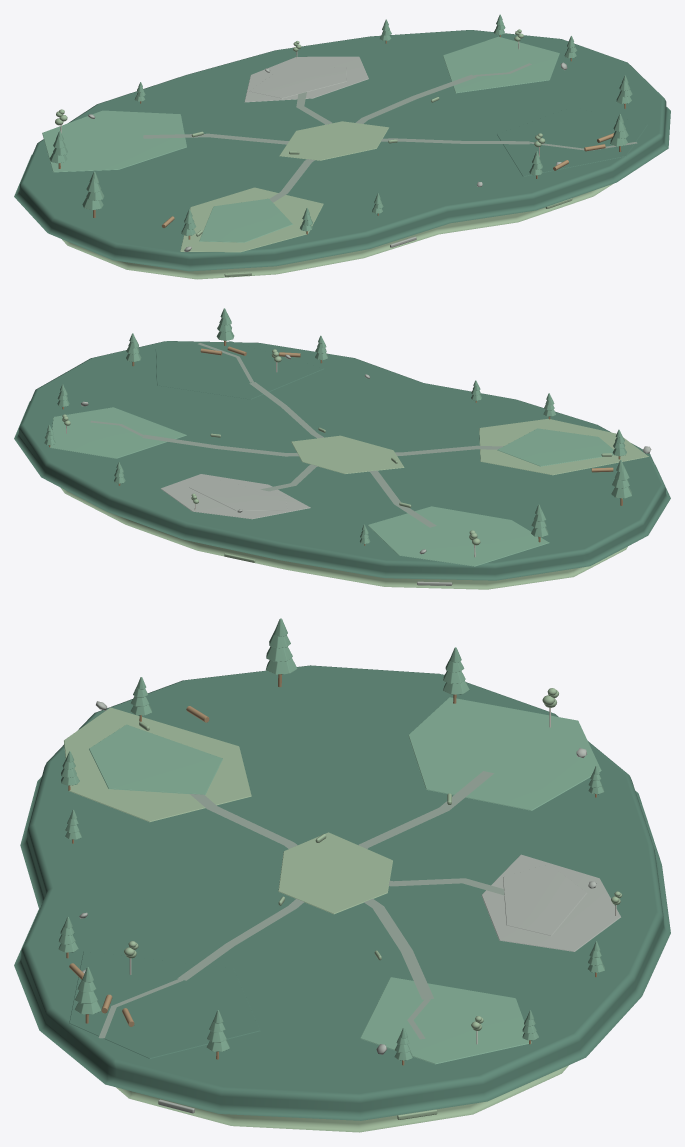
Rendered from career-world-environment.glb.
3 renders of one model, top to bottom at view 1: azimuth 30°, elevation 25°; view 2: azimuth 150°, elevation 25°; view 3: azimuth 270°, elevation 25°, orthographic. The views are drawn at different scales.
Visible parts, largest first — view 1: ENV_FloatingIsland_Topography, ENV_OfficeLawnZone_Visma, ENV_ForestFloorZone_Dasa, ENV_SchoolMossZone_Education, ENV_FloatingIsland_LayeredEdge, ENV_OpenGreenZone_Sodra, ENV_CentralMeadow_MossRise, ENV_Sodra_Entrance_LawnApron, ENV_UrbanStoneZone_Filmstaden, ENV_Filmstaden_Forecourt_DarkPaving, ENV_Path_To_Education, ENV_Path_To_Visma (+2 smaller); view 2: ENV_FloatingIsland_Topography, ENV_OfficeLawnZone_Visma, ENV_ForestFloorZone_Dasa, ENV_SchoolMossZone_Education, ENV_FloatingIsland_LayeredEdge, ENV_OpenGreenZone_Sodra, ENV_CentralMeadow_MossRise, ENV_Sodra_Entrance_LawnApron, ENV_UrbanStoneZone_Filmstaden, ENV_Filmstaden_Forecourt_DarkPaving, ENV_Path_To_Education, ENV_Path_To_Visma (+2 smaller); view 3: ENV_FloatingIsland_Topography, ENV_OfficeLawnZone_Visma, ENV_ForestFloorZone_Dasa, ENV_SchoolMossZone_Education, ENV_OpenGreenZone_Sodra, ENV_CentralMeadow_MossRise, ENV_Sodra_Entrance_LawnApron, ENV_UrbanStoneZone_Filmstaden, ENV_FloatingIsland_LayeredEdge, ENV_Filmstaden_Forecourt_DarkPaving, ENV_Path_To_Education, ENV_Path_To_Visma (+2 smaller).
Boxes of the visible parts, left/top/right/bottom form: ENV_FloatingIsland_Topography: left=14, top=30, right=670, bottom=271; ENV_OfficeLawnZone_Visma: left=42, top=110, right=186, bottom=172; ENV_ForestFloorZone_Dasa: left=497, top=107, right=647, bottom=176; ENV_SchoolMossZone_Education: left=443, top=36, right=559, bottom=93; ENV_FloatingIsland_LayeredEdge: left=62, top=184, right=612, bottom=279; ENV_OpenGreenZone_Sodra: left=180, top=187, right=323, bottom=252; ENV_CentralMeadow_MossRise: left=279, top=121, right=388, bottom=160; ENV_Sodra_Entrance_LawnApron: left=199, top=198, right=292, bottom=242; ENV_UrbanStoneZone_Filmstaden: left=244, top=56, right=368, bottom=102; ENV_Filmstaden_Forecourt_DarkPaving: left=249, top=67, right=346, bottom=98; ENV_Path_To_Education: left=355, top=74, right=476, bottom=123; ENV_Path_To_Visma: left=143, top=133, right=288, bottom=144; ENV_FloatingIsland_Topography: left=14, top=341, right=670, bottom=580; ENV_OfficeLawnZone_Visma: left=367, top=506, right=549, bottom=566; ENV_ForestFloorZone_Dasa: left=155, top=341, right=323, bottom=399; ENV_SchoolMossZone_Education: left=50, top=407, right=186, bottom=458; ENV_FloatingIsland_LayeredEdge: left=61, top=488, right=627, bottom=589; ENV_OpenGreenZone_Sodra: left=479, top=418, right=648, bottom=475; ENV_CentralMeadow_MossRise: left=291, top=435, right=404, bottom=473; ENV_Sodra_Entrance_LawnApron: left=497, top=428, right=613, bottom=466; ENV_UrbanStoneZone_Filmstaden: left=160, top=474, right=310, bottom=519; ENV_Filmstaden_Forecourt_DarkPaving: left=189, top=480, right=287, bottom=511; ENV_Path_To_Education: left=142, top=434, right=298, bottom=456; ENV_Path_To_Visma: left=369, top=470, right=436, bottom=527; ENV_FloatingIsland_Topography: left=14, top=665, right=670, bottom=1120; ENV_OfficeLawnZone_Visma: left=408, top=697, right=601, bottom=810; ENV_ForestFloorZone_Dasa: left=69, top=951, right=260, bottom=1058; ENV_SchoolMossZone_Education: left=360, top=977, right=531, bottom=1064; ENV_OpenGreenZone_Sodra: left=64, top=707, right=251, bottom=822; ENV_CentralMeadow_MossRise: left=278, top=832, right=392, bottom=914; ENV_Sodra_Entrance_LawnApron: left=89, top=724, right=222, bottom=794; ENV_UrbanStoneZone_Filmstaden: left=481, top=854, right=620, bottom=951; ENV_FloatingIsland_LayeredEdge: left=116, top=1065, right=568, bottom=1132; ENV_Filmstaden_Forecourt_DarkPaving: left=503, top=864, right=586, bottom=936; ENV_Path_To_Education: left=364, top=898, right=433, bottom=999; ENV_Path_To_Visma: left=358, top=771, right=493, bottom=848.
Size of the model in its own units: 11.67 by 1.94 by 7.36.
